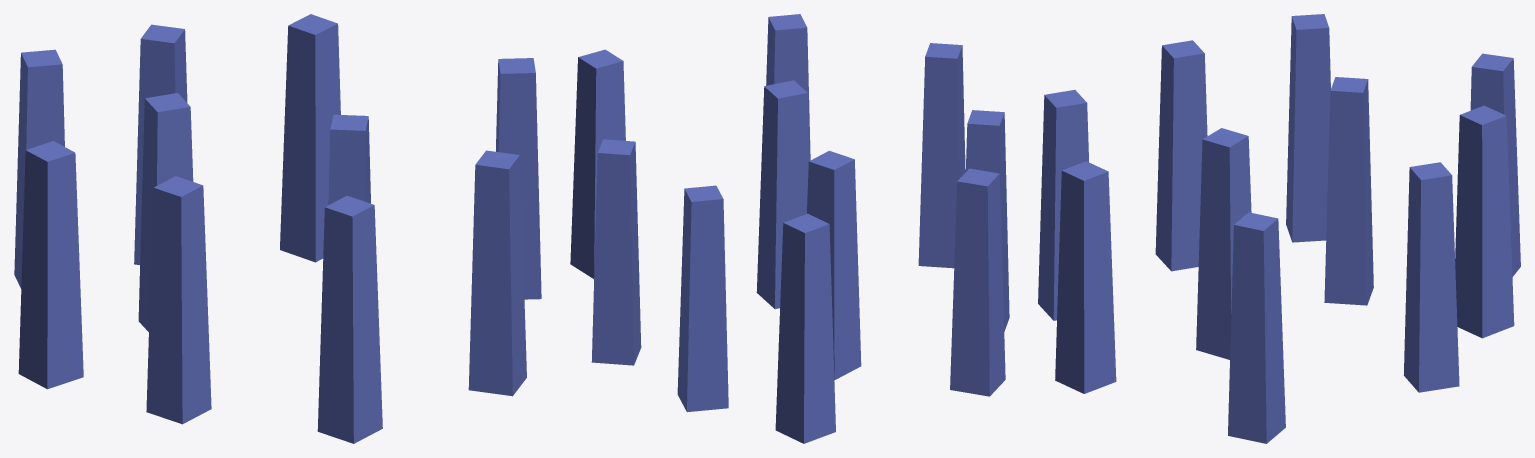
Rendered from CandleGroupLoRes.fbx.
The picture shows the model from 3 angles, left to right: view 1: azimuth 30°, elevation 25°; view 2: azimuth 150°, elevation 25°; view 3: azimuth 270°, elevation 25°; orthographic projection. The views are drawn at different scales.
Parts seen in each view (by area): view 1: pCube22; view 2: pCube22; view 3: pCube22.
Part boxes in pixels (x1=…): pCube22: x1=14, y1=14, x2=541, y2=443; pCube22: x1=570, y1=14, x2=1009, y2=443; pCube22: x1=1038, y1=14, x2=1520, y2=443.
Bounding box in the file's own units: 1.42 × 0.6271 × 1.31.
